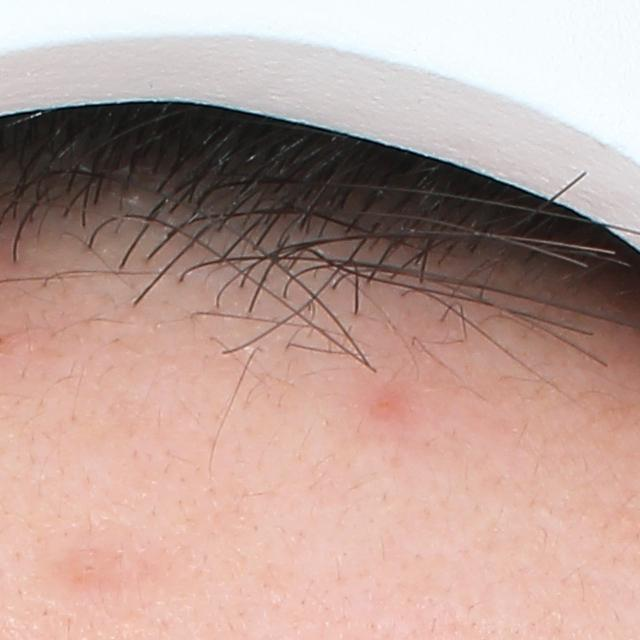papule: (371, 392, 407, 428)
